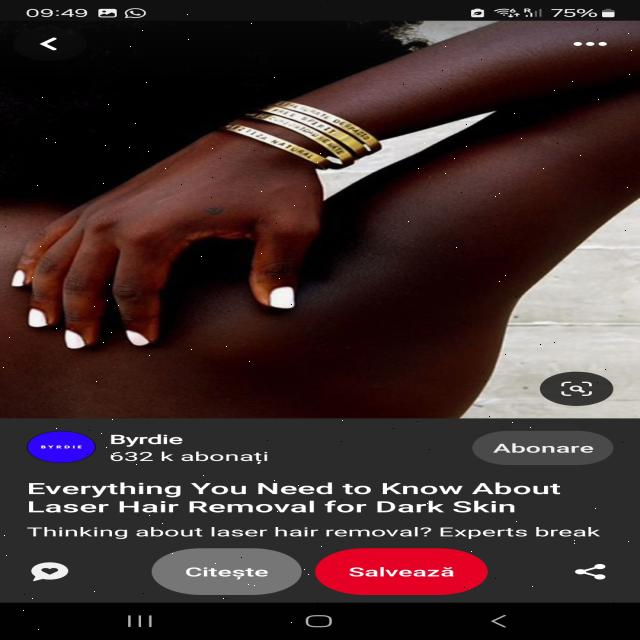hands: (5, 96, 418, 378)
